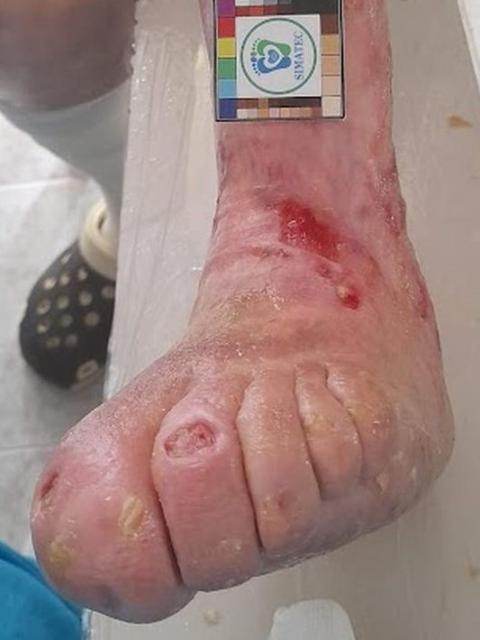wound: (264, 198, 383, 310), (162, 421, 216, 462), (39, 469, 61, 502)
